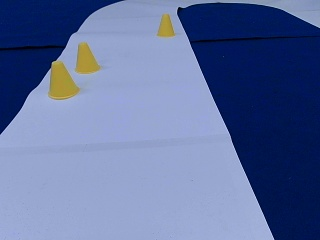cone: (48, 62, 79, 98), (74, 43, 99, 73), (156, 14, 174, 37)
